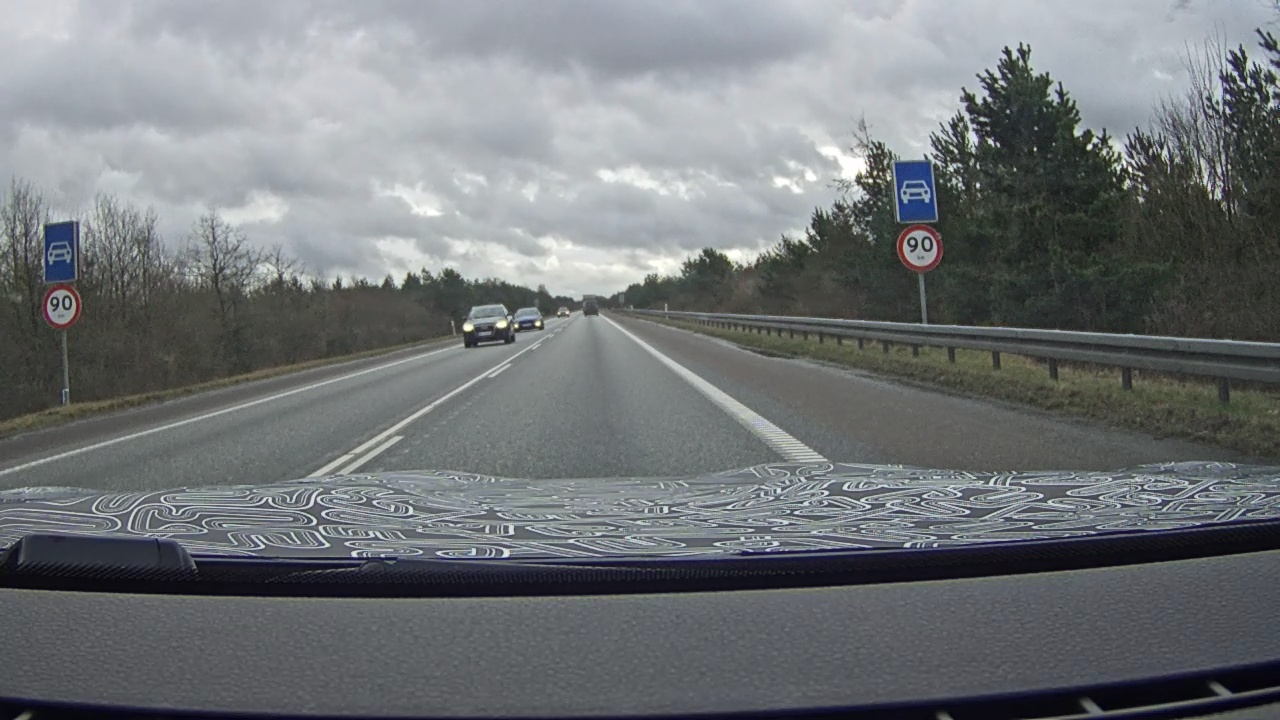Expressway_Begin: (892, 159, 938, 224), (43, 221, 79, 283)
